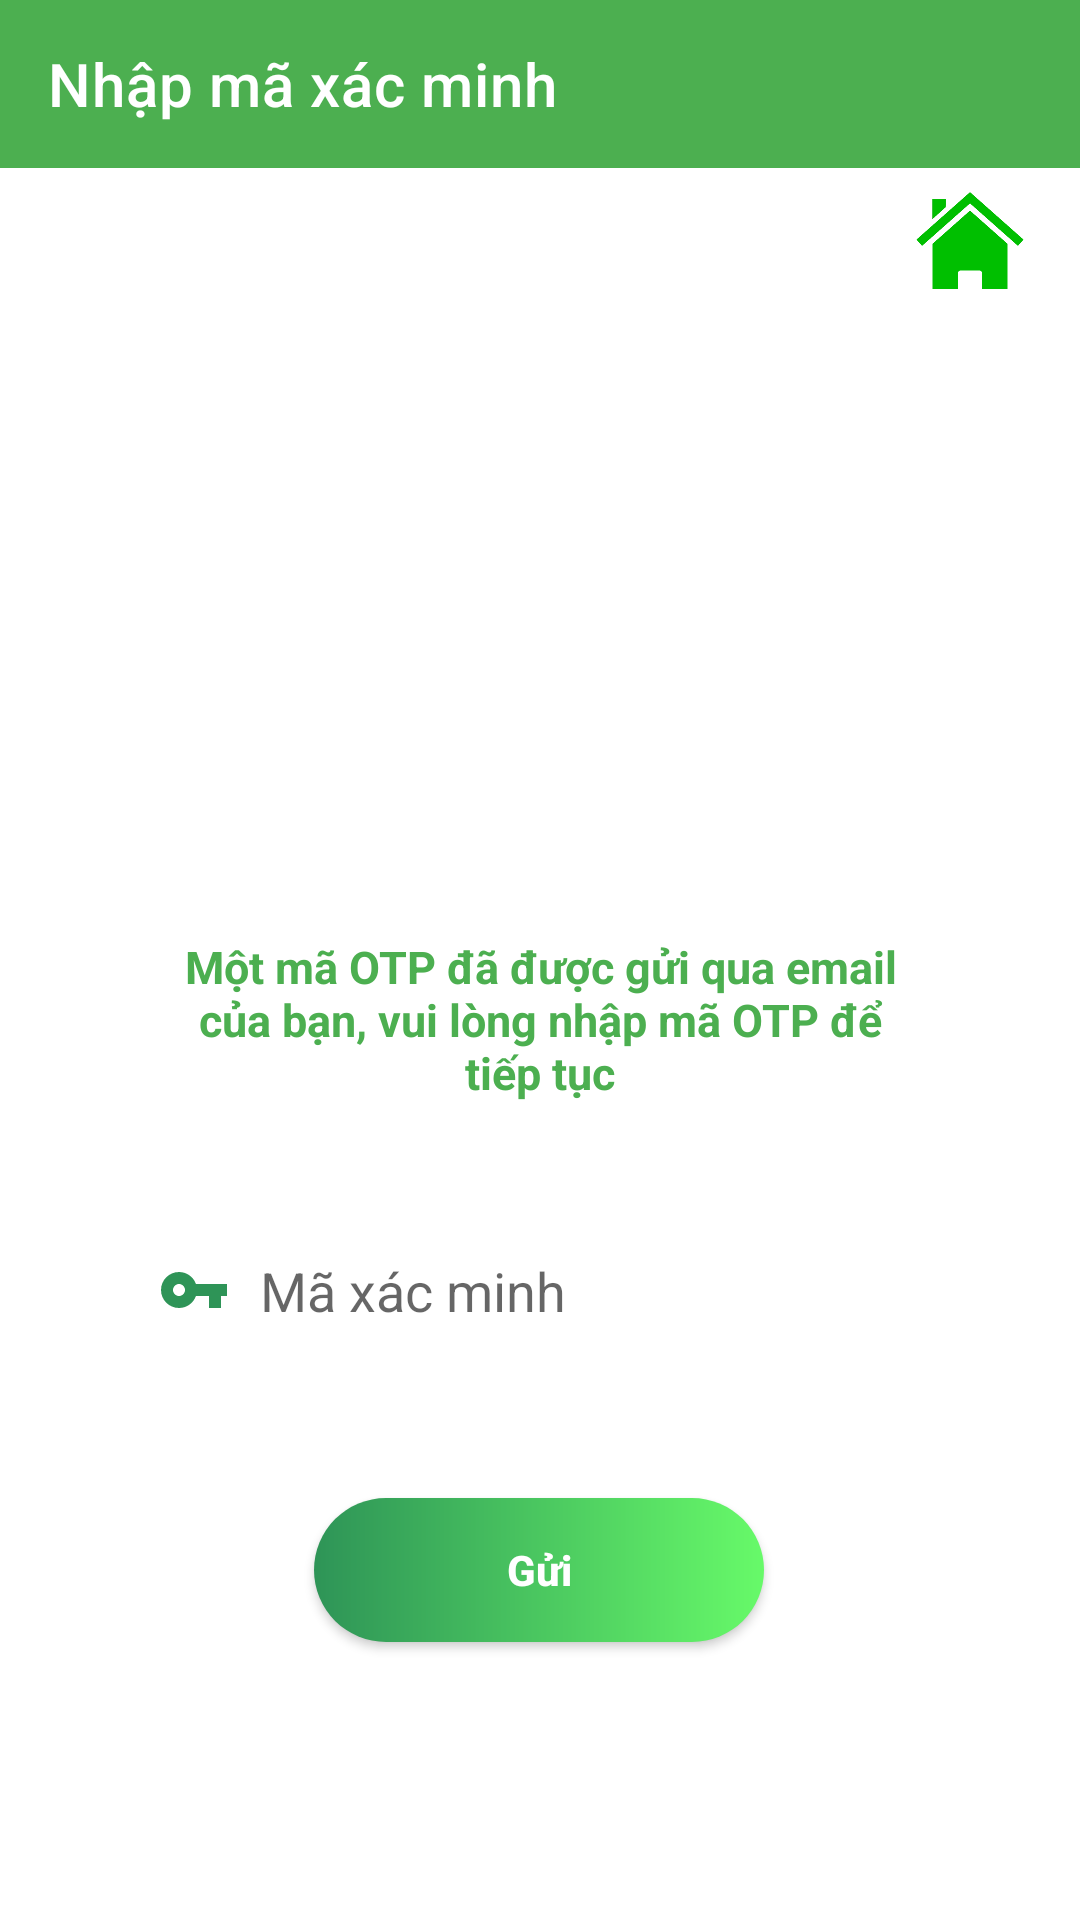

Screen size 1080px x 1920px. Icon name, then its box in pixels as (x1, y1, x2, y2):
home: (916, 192, 1024, 289)
